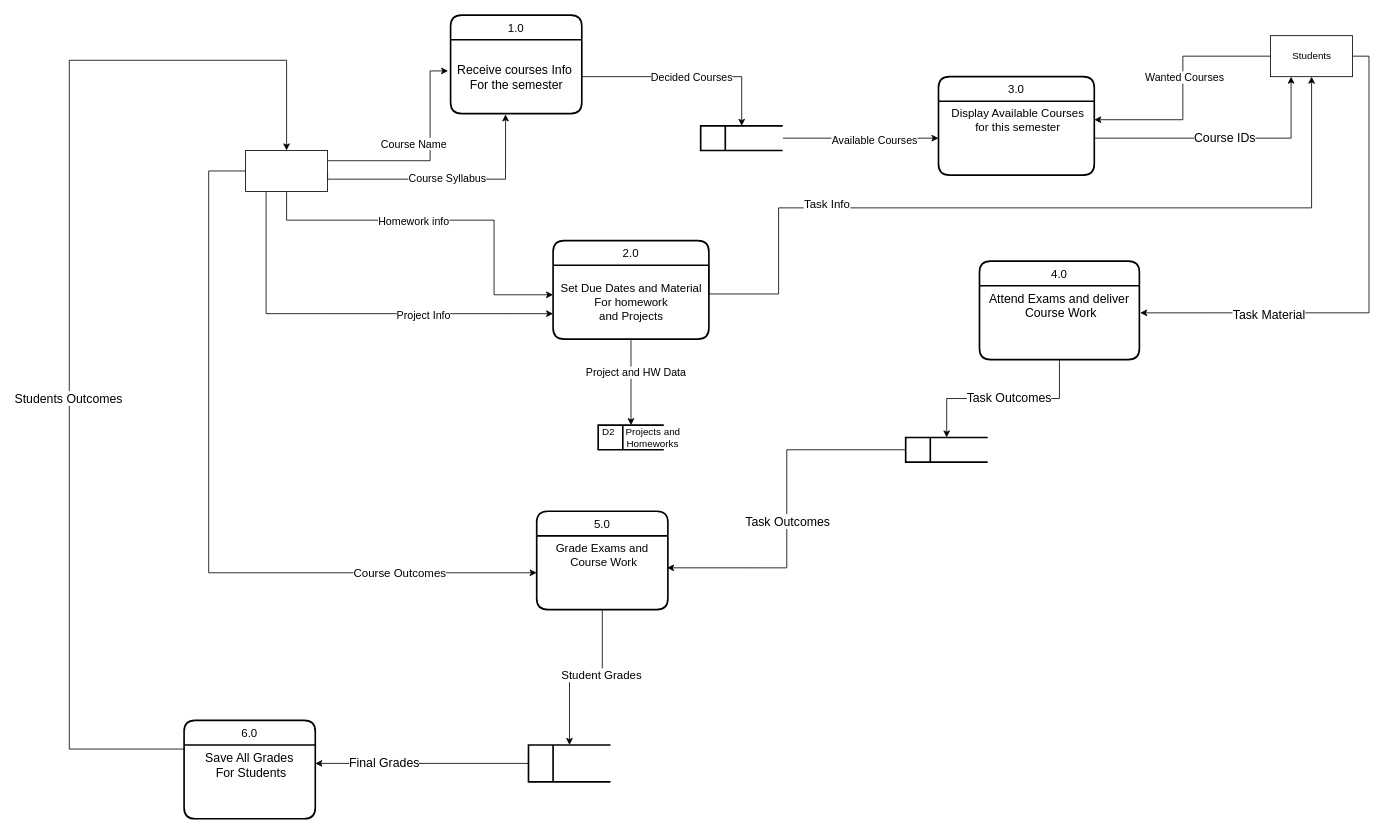
Some shapes in this 1390 by 833 pixel diagram are drawn without their labels. Here are the shapes that lost their labels. From the top down, the centre of each, then its label:
the point at 741,138: D1 Courses DB This Semester
the point at 286,170: Lecturer
the point at 946,449: D3 Results DB
the point at 569,763: D4 Course Final Grades
